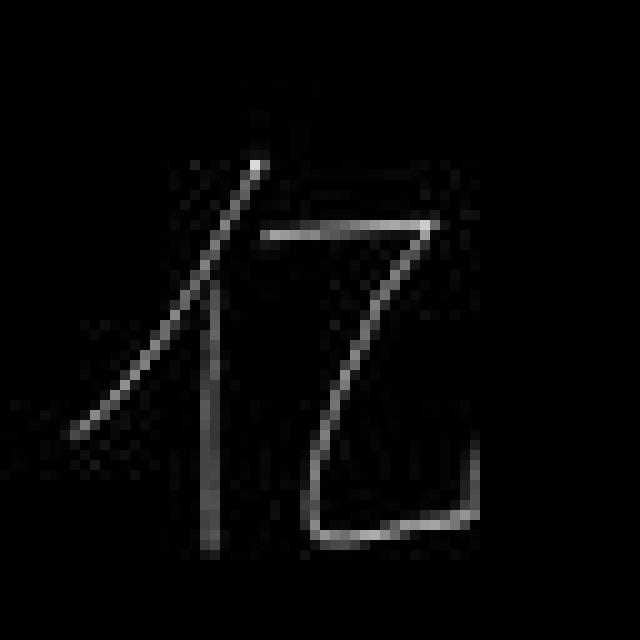100000 -a hundred thousand-: (57, 149, 496, 562)
